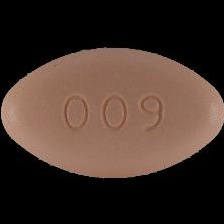13913-005: (0, 0, 224, 224)
